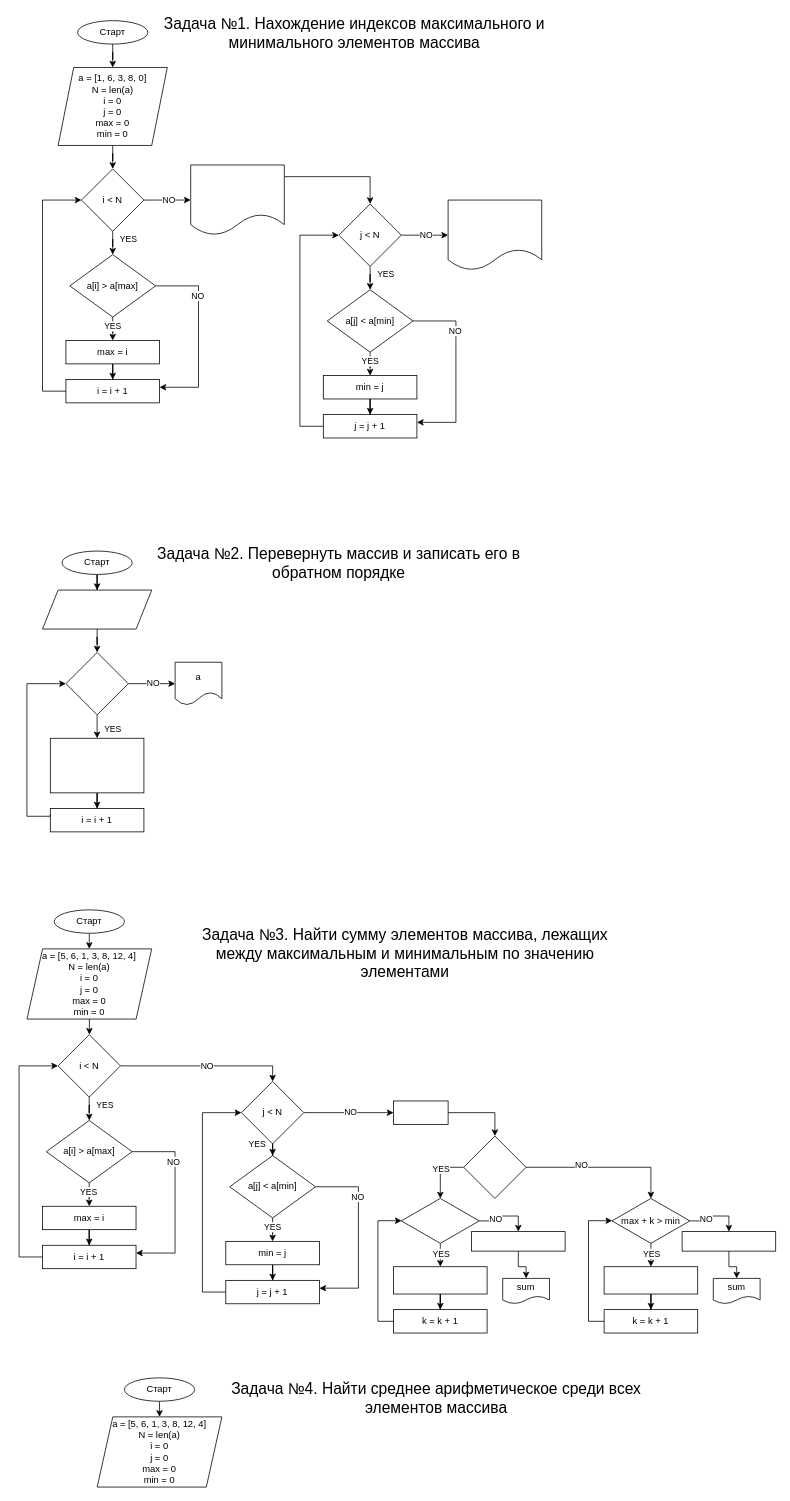
Image size: 790x1501. Some labels were removed from this diagram. Here are the shapes that lost their labels. From the top down, the centre of each, then its label:
(x=237, y=199): "Индекс максимального элемента массива равен" max
(x=494, y=234): "Индекс минимального элемента массива равен" min
(x=97, y=609): a = [1, 4, 5, 2, 12] N = len(a) i = 0
(x=96, y=683): i < (N-1)/2
(x=97, y=765): temp1 = a[i] temp2 = a[N-1-i] a[i] = temp2 a[N-1-i] = temp1
(x=420, y=1112): sum = 0 k = 0
(x=494, y=1166): max > min
(x=440, y=1220): min + k >max
(x=518, y=1241): sum = sum + a[max]
(x=728, y=1241): sum = sum + a[min]
(x=440, y=1280): sum = sum + a[k + min]
(x=650, y=1280): sum = sum + a[k + max]
